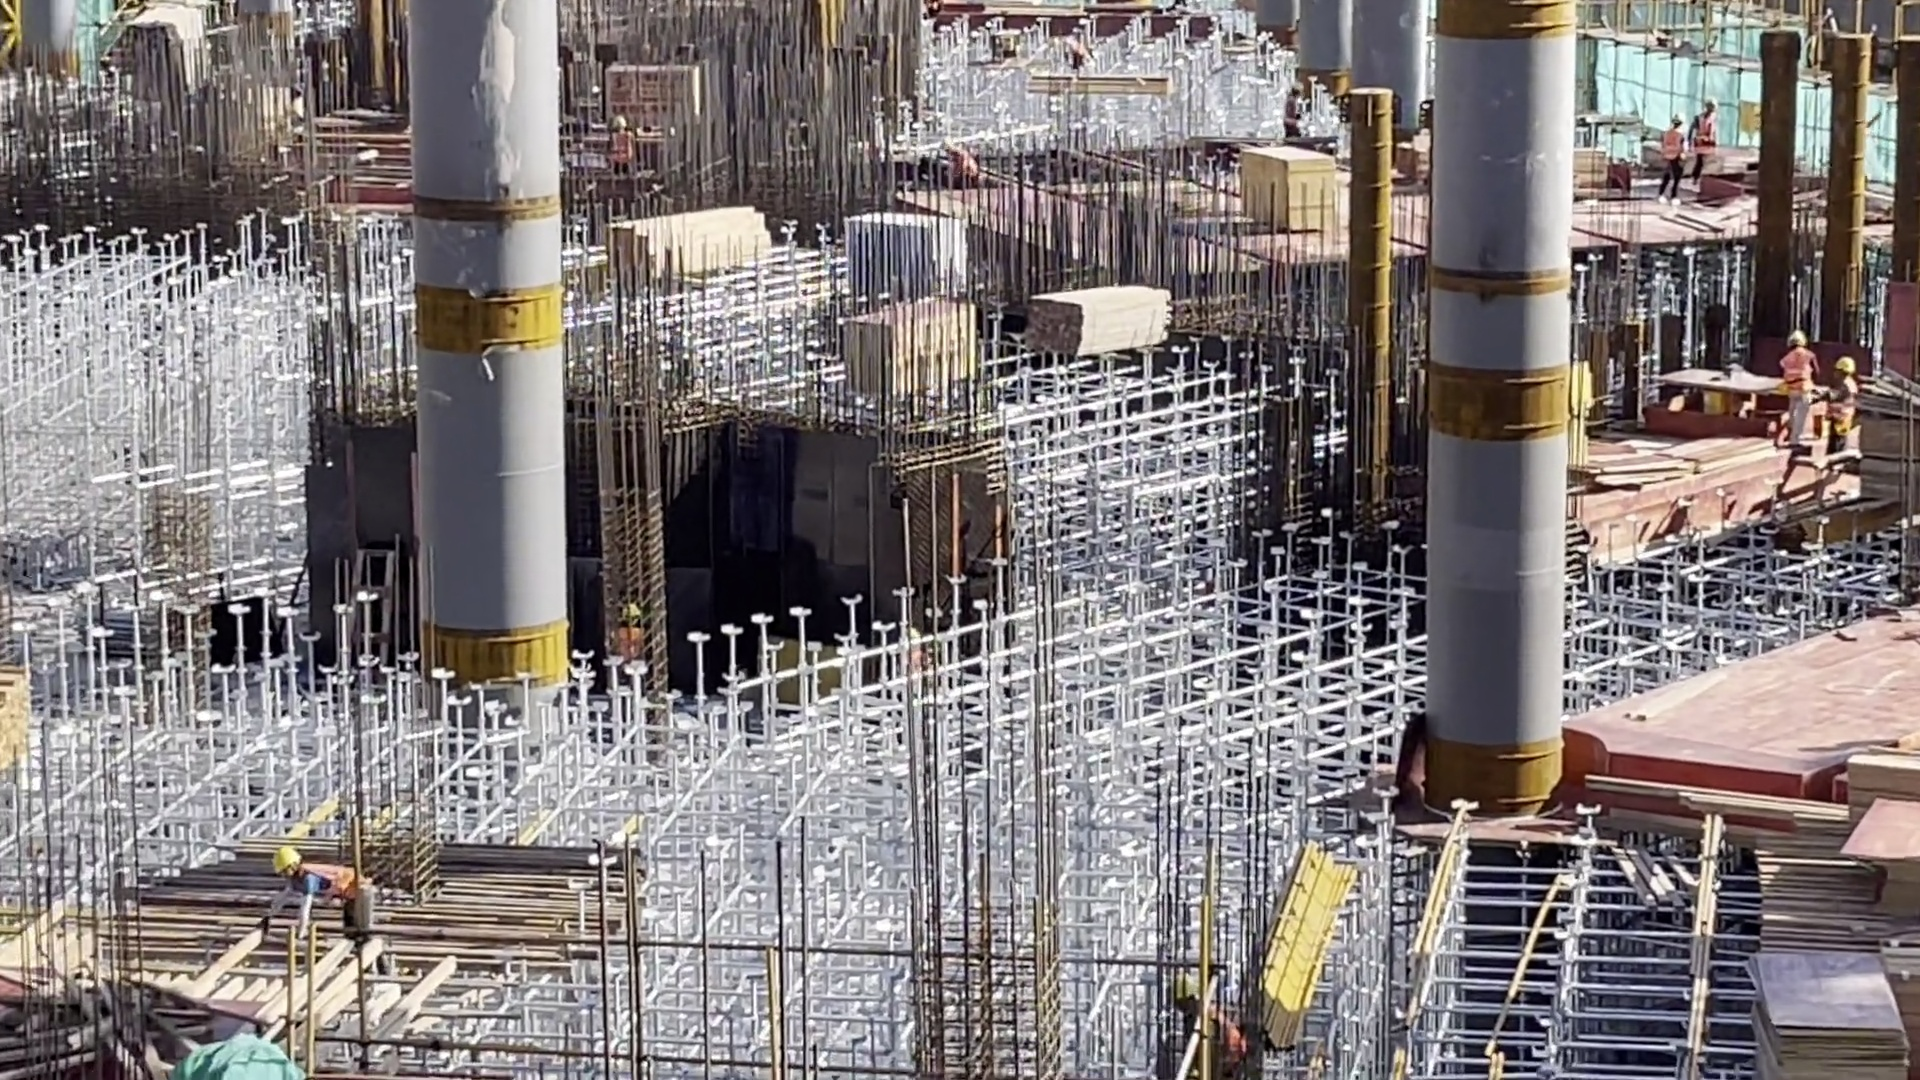board: (1663, 733, 1920, 1076), (1580, 427, 1781, 546)
helmet: (1781, 328, 1809, 358), (270, 848, 297, 875), (602, 106, 628, 135), (1830, 355, 1853, 381), (1664, 113, 1686, 136)
person: (255, 837, 363, 938), (1160, 985, 1263, 1080), (1782, 326, 1813, 445), (1657, 110, 1692, 212), (1830, 354, 1862, 456), (1695, 84, 1727, 181), (938, 135, 985, 197), (603, 111, 633, 169)
vest: (297, 855, 355, 897), (1782, 352, 1812, 406), (1829, 382, 1853, 445), (1664, 134, 1685, 176), (1696, 118, 1715, 160)
wood: (362, 819, 659, 964), (1010, 281, 1203, 382)
